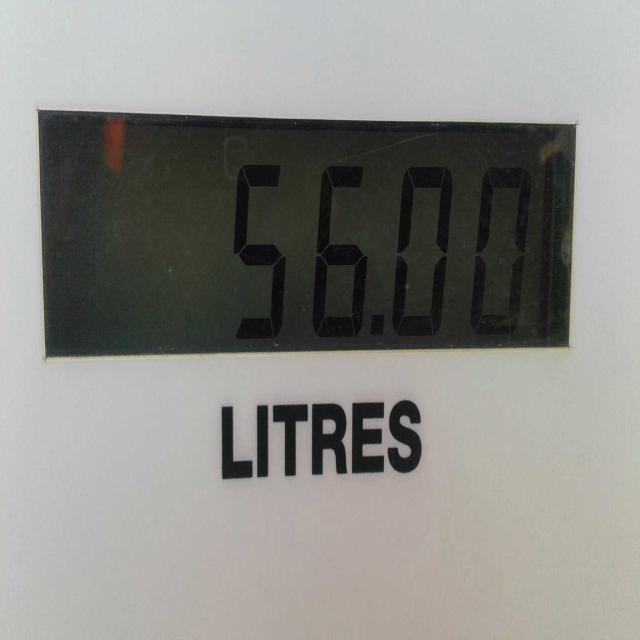.: (360, 295, 398, 350)
0: (468, 151, 546, 340), (384, 164, 461, 347)
5: (200, 134, 288, 344)
6: (300, 144, 374, 353)
